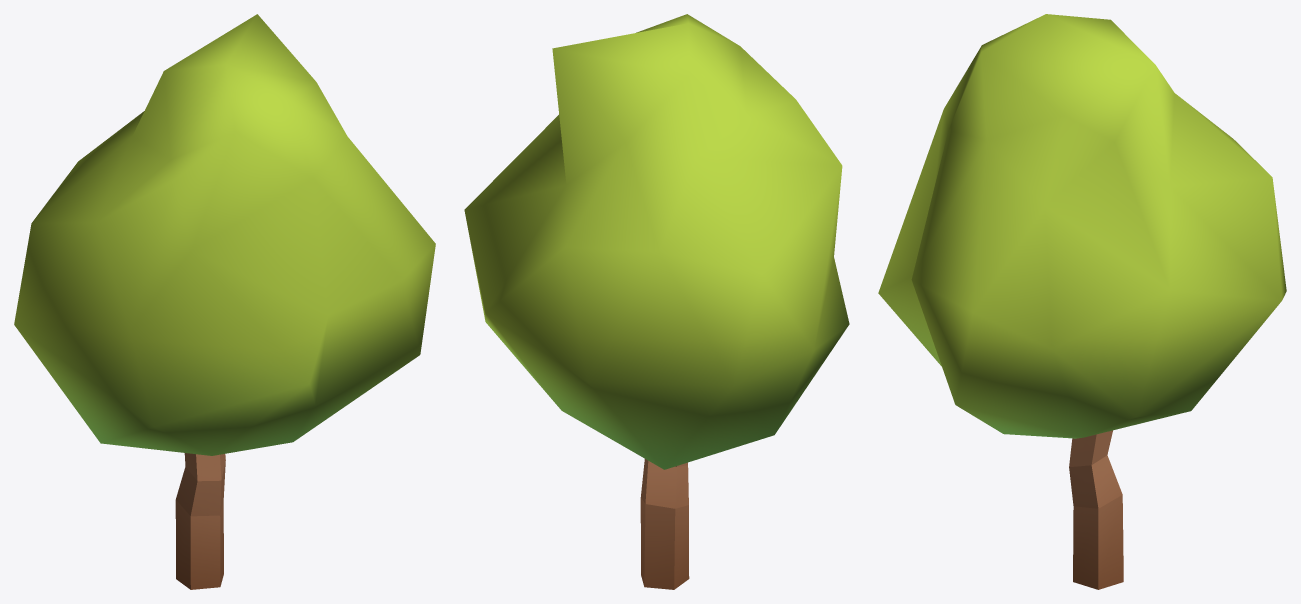
File: TREE007.fbx
3 views of the same model, side by side, from view 1: azimuth 30°, elevation 25°; view 2: azimuth 150°, elevation 25°; view 3: azimuth 270°, elevation 25° (orthographic). The views are drawn at different scales.
Parts seen in each view (by area): view 1: polySurface45; view 2: polySurface45; view 3: polySurface45.
Part boxes in pixels (x1,y1,x2,y2): polySurface45: (14,14,435,589); polySurface45: (464,14,849,589); polySurface45: (878,14,1286,589).
Bounding box in the file's own units: 6.59 × 9.77 × 6.41.
Materials: 1 (1 with a texture image).
